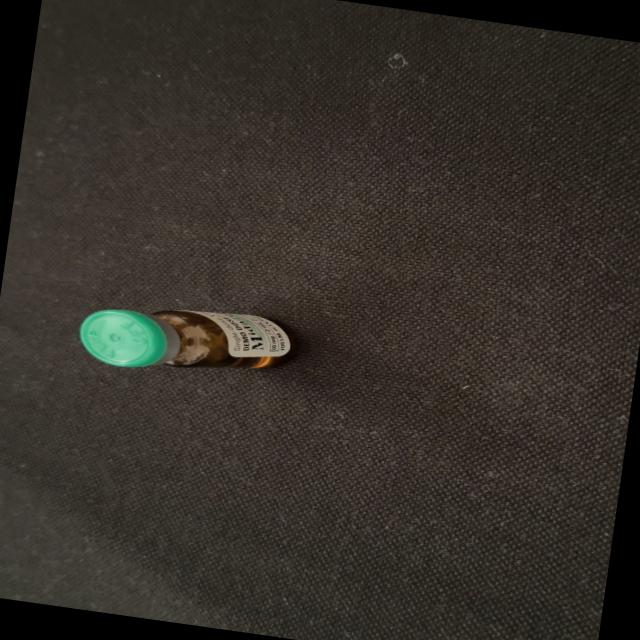midazolm: (79, 291, 295, 388)
